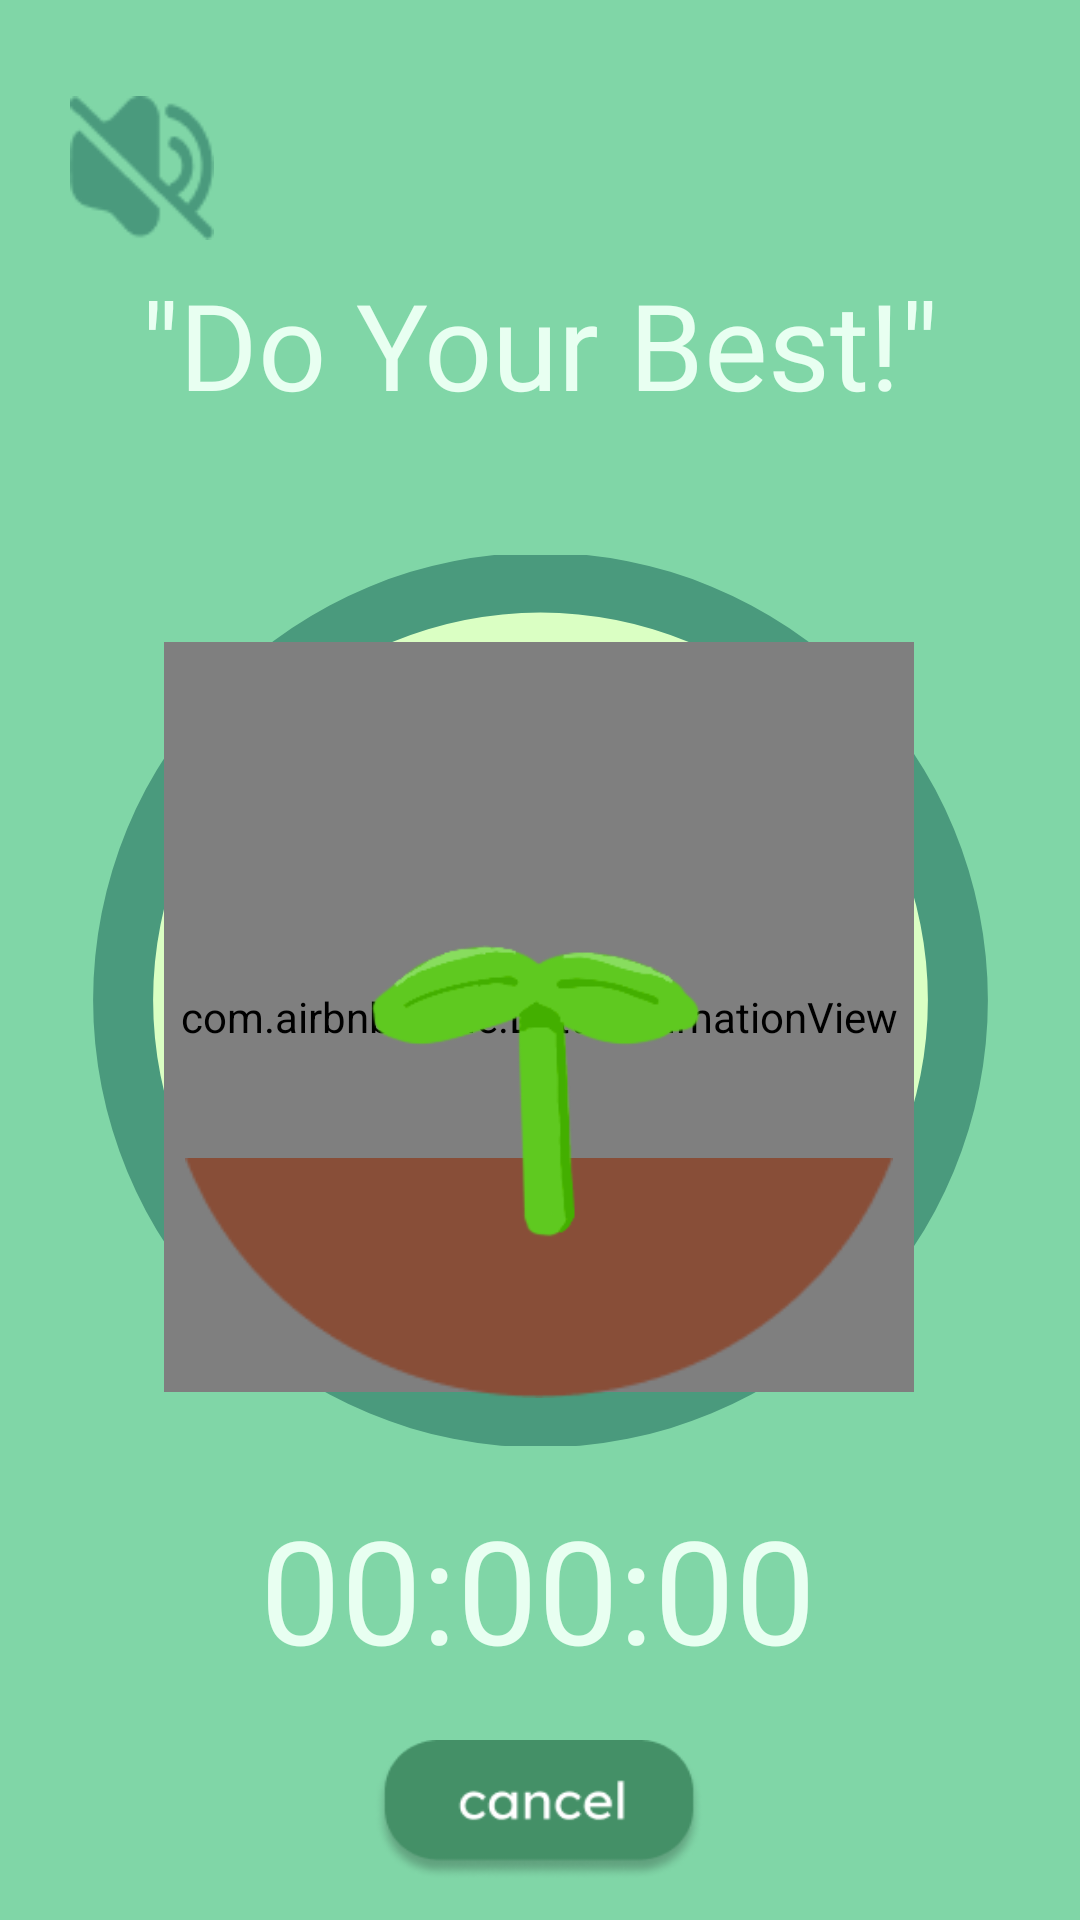

Icons on this 1080x1920 Android screen, each with the point to tap as [x,y]:
backmusic stop: [142,168]
sprout: [538,1097]
